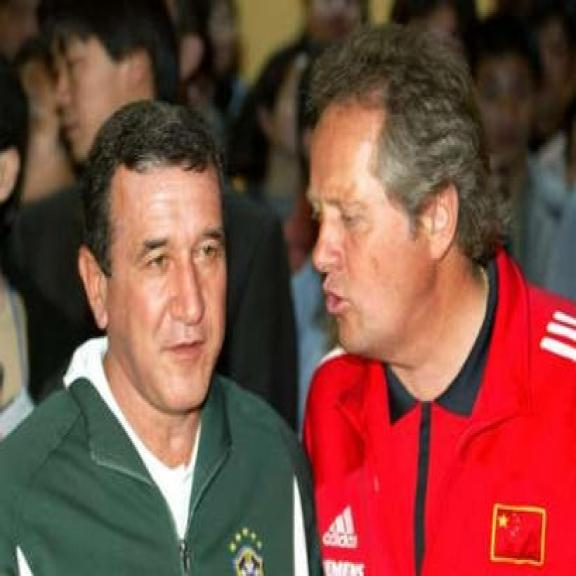face: (77, 155, 233, 418), (306, 98, 460, 360), (50, 22, 150, 158)
